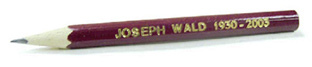pen_tip: (7, 22, 76, 52)
